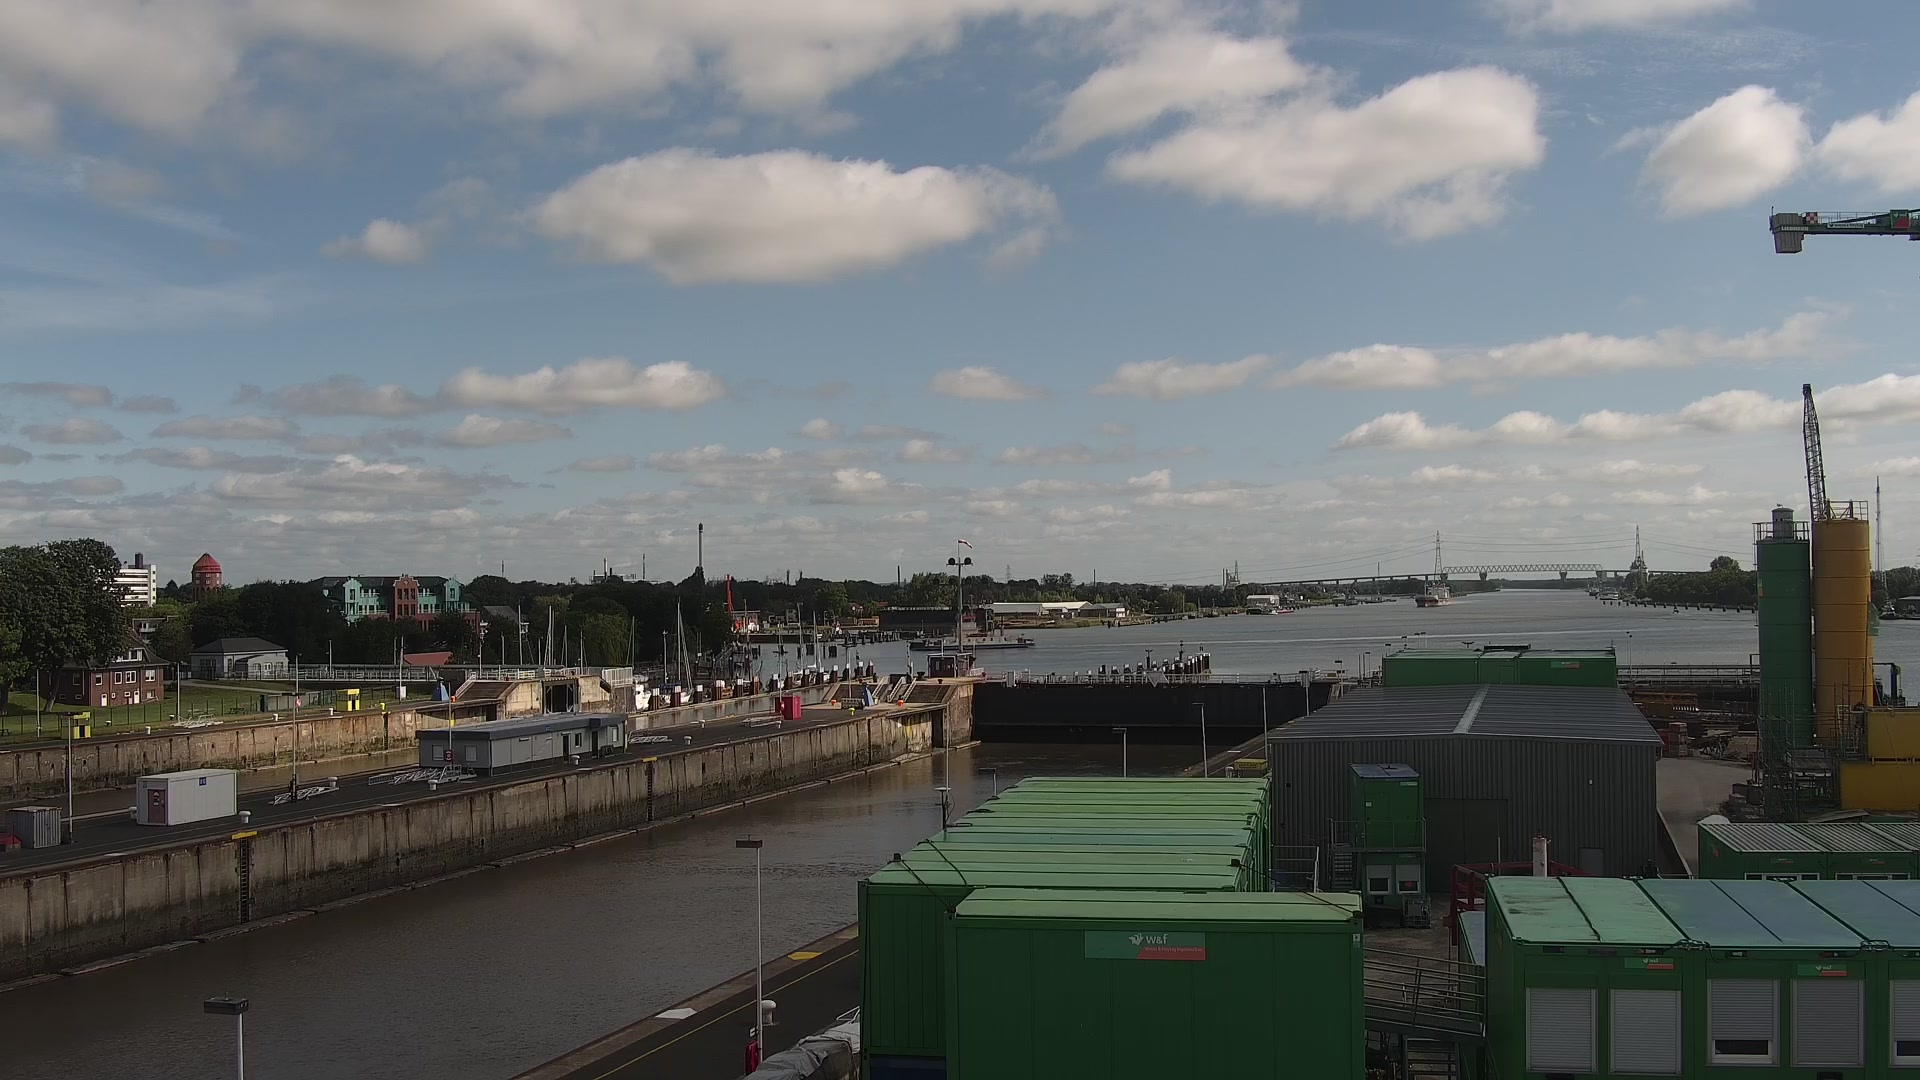sea: (906, 608, 1036, 651), (1414, 582, 1451, 607), (1879, 603, 1898, 618)
